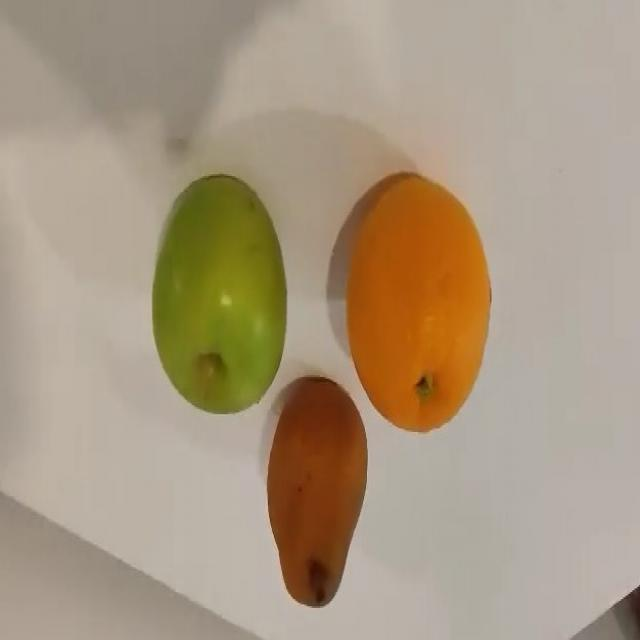Apple: (150, 172, 287, 414), (265, 375, 368, 607)
Orange: (345, 170, 492, 433)
